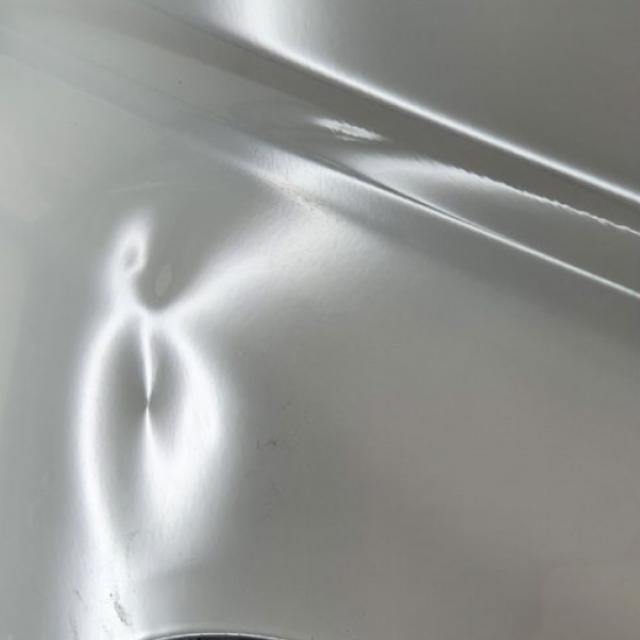dents: (73, 292, 245, 550)
